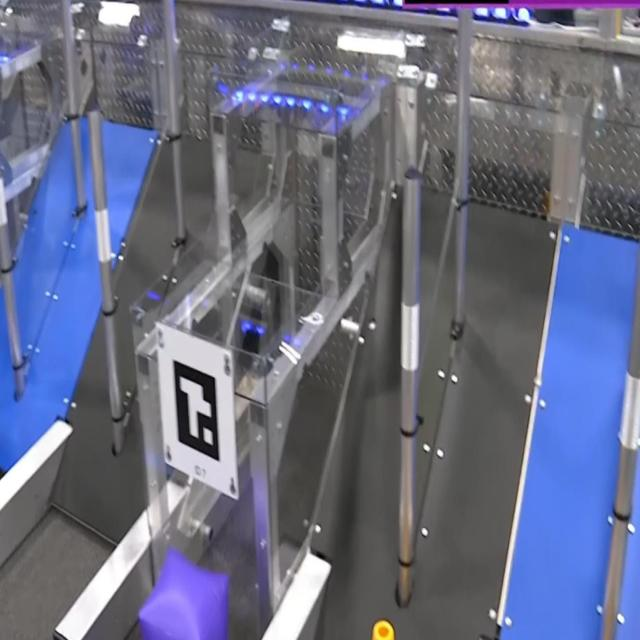frc_cone: (370, 613, 395, 640)
frc_cube: (135, 547, 229, 640)
